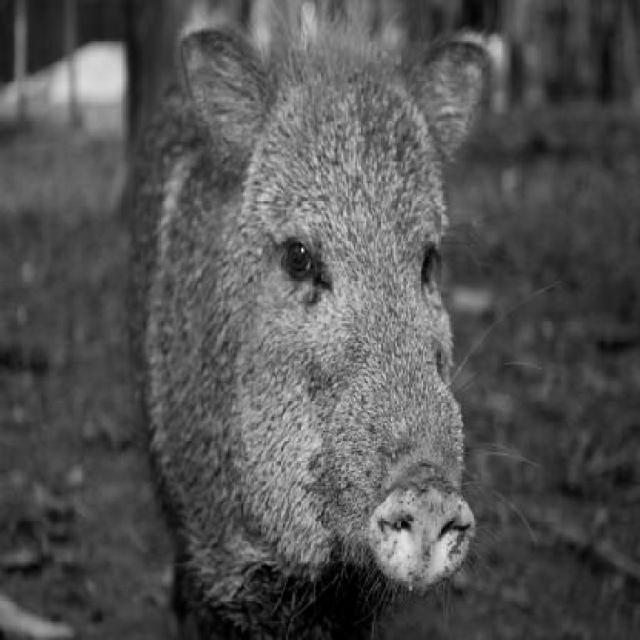Boar: (132, 0, 497, 640)
